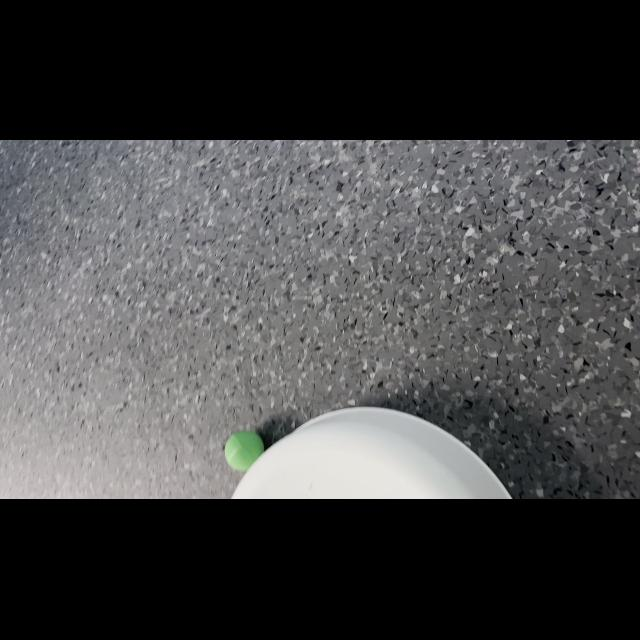objects: (220, 428, 268, 472)
